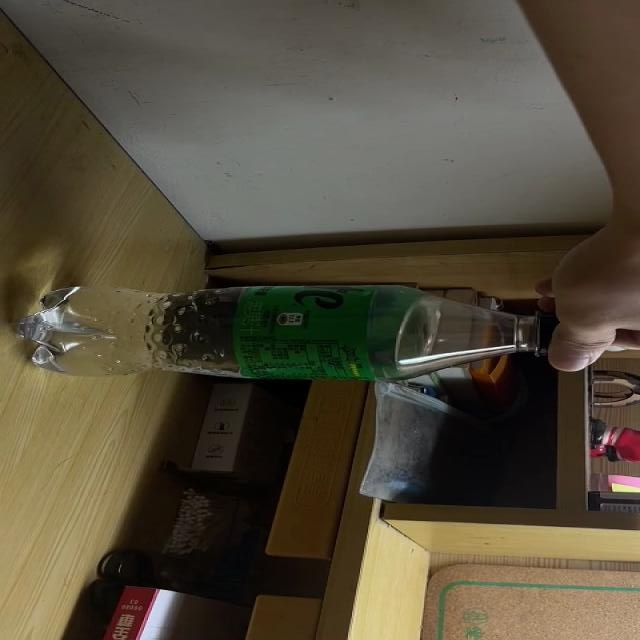Sprite: (9, 285, 594, 382)
